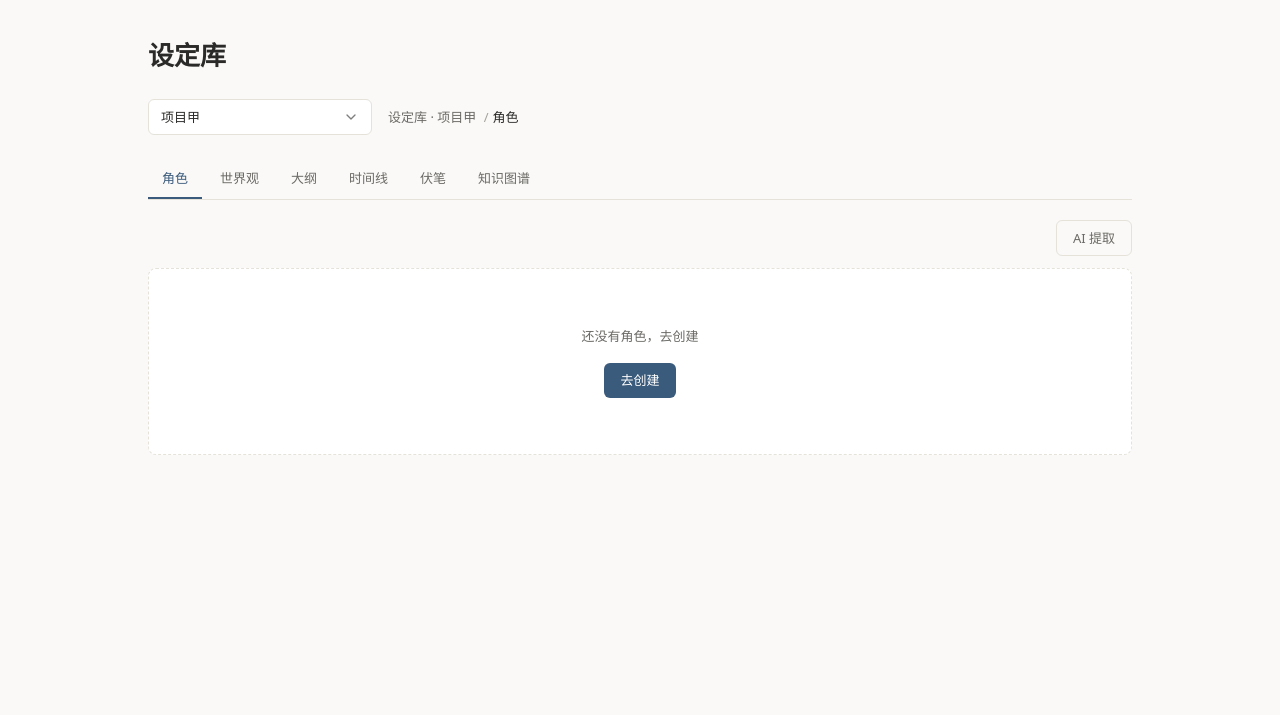
Test: #1325 知识图谱关系列表分页 › 2 列表下方渲染分页条（library-kg-page-* 三件套）
The width and height of the screenshot is (1280, 715).
Click the tab "知识图谱" at (504, 179), box [464,159,544,199]
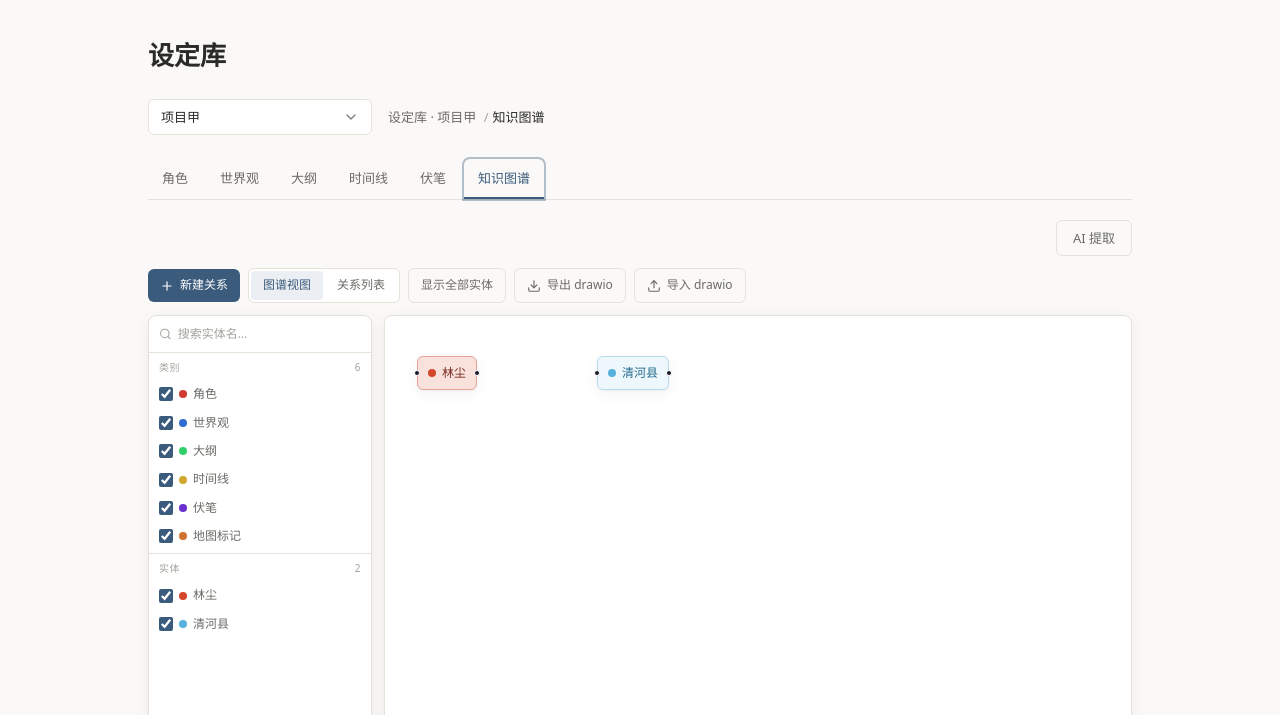
Click the button with test id "library-kg-view-list" at (361, 286), box [325,271,397,300]
(page scrolled)
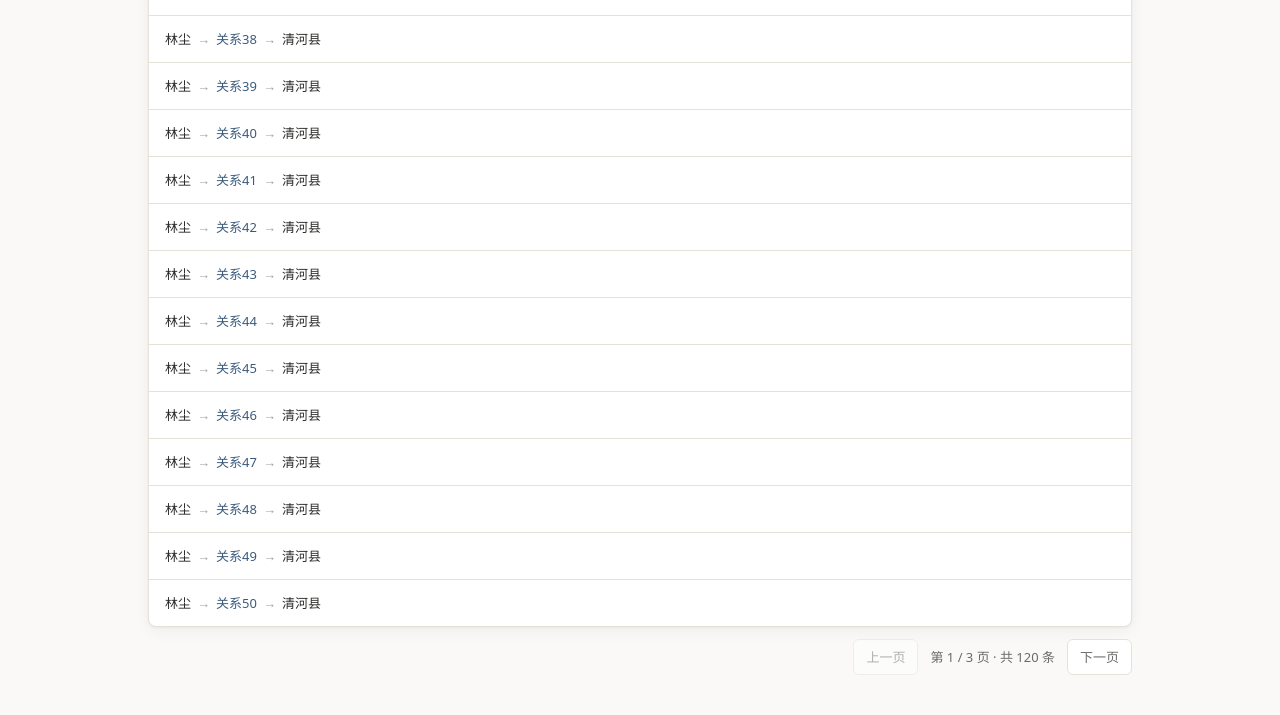
Check: the button with test id "library-kg-page-prev" is shown, box [853,639,918,675]
Check: the button with test id "library-kg-page-next" is shown, box [1067,639,1132,675]
Check: the text "第 1 / 3 页 · 共 120 条" is shown, box [930,646,1055,668]
